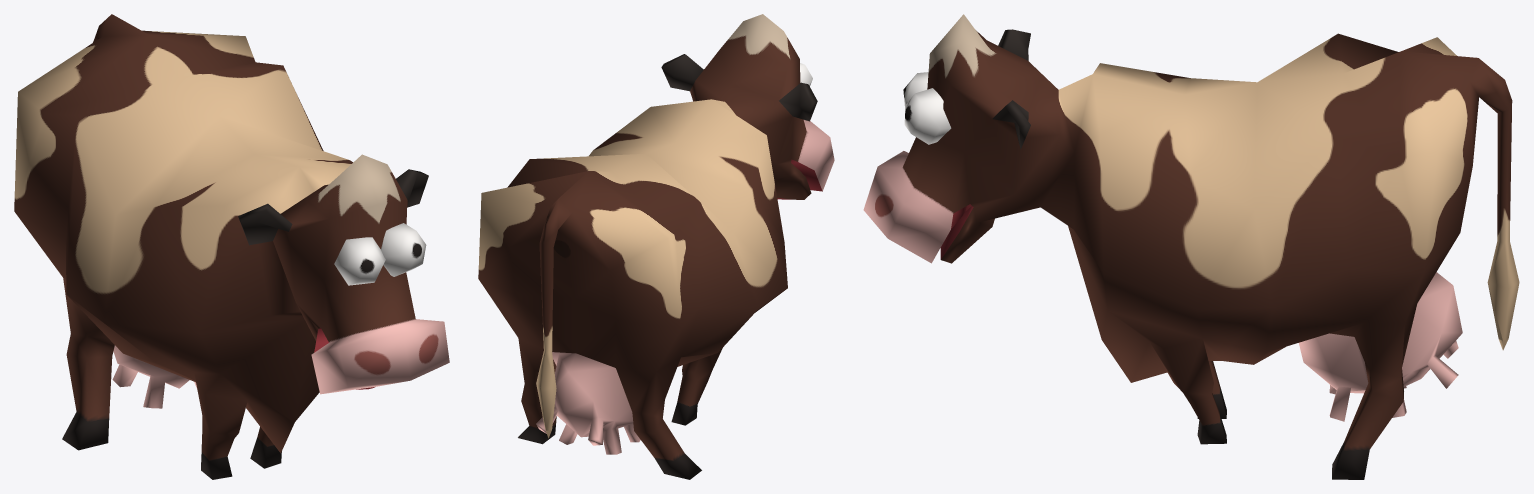
Rendered from farm_cow.fbx.
3 renders of one model, left to right at view 1: azimuth 30°, elevation 25°; view 2: azimuth 150°, elevation 25°; view 3: azimuth 270°, elevation 25°, orthographic. The views are drawn at different scales.
Visible parts, largest first — view 1: farm:cow; view 2: farm:cow; view 3: farm:cow.
Part boxes in pixels (x1,y1,x2,y2): farm:cow: (14, 14, 449, 479); farm:cow: (478, 14, 834, 479); farm:cow: (863, 14, 1519, 479).
Bounding box in the file's own units: 1.45 × 1.92 × 2.76.
